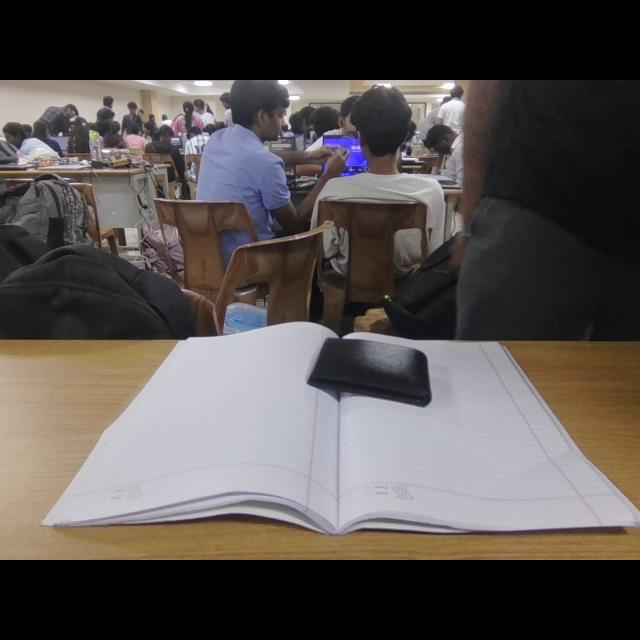wallet: (307, 328, 441, 410)
